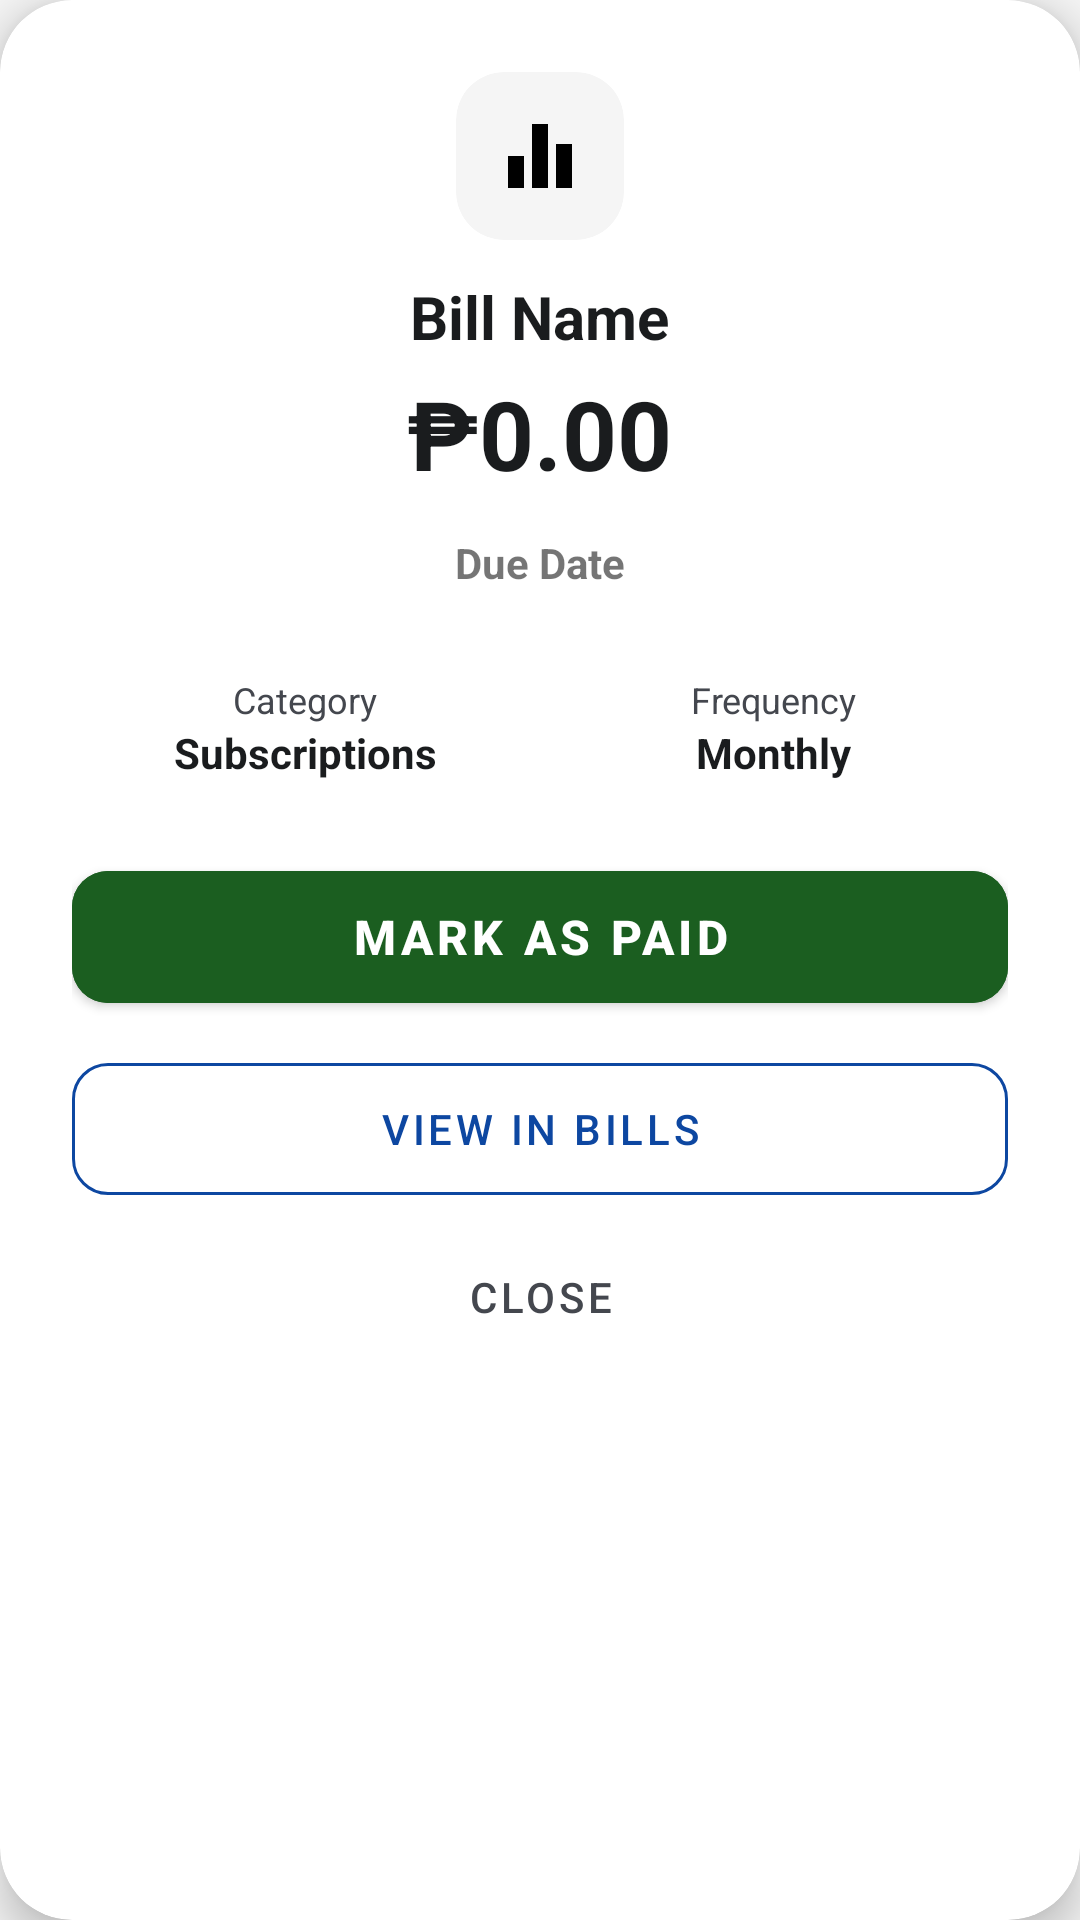

Named icons in this screenshot (1080 × 1920) and their centers, [x,y]:
visual reports: [540,156]
